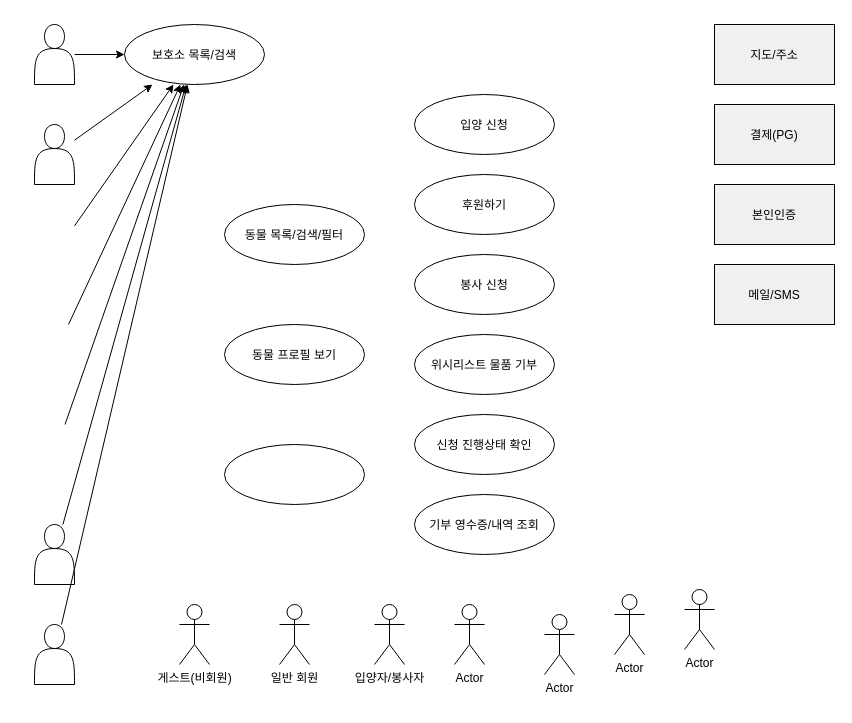
This 852x723 diagram has some shape labels left out. Here are the shapes that lost their labels. From the top down, the centre of each, then its label:
the point at 54,54: 방문자(게스트)
the point at 54,154: 회원
the point at 294,474: 보호소 상세 보기
the point at 54,554: 보호소 담당자
the point at 54,654: 관리자
